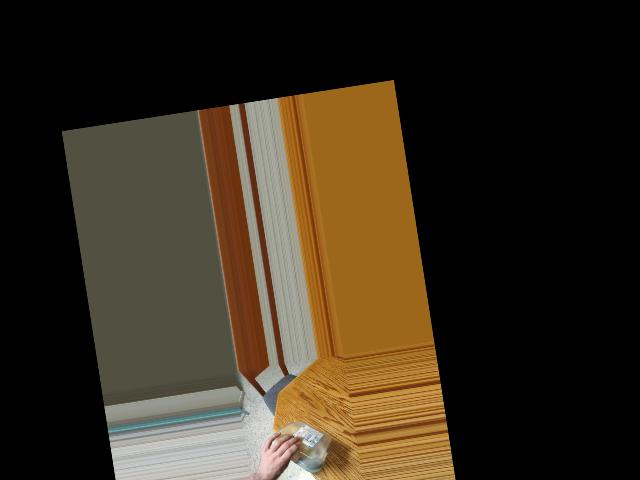cheese: (264, 416, 335, 477)
